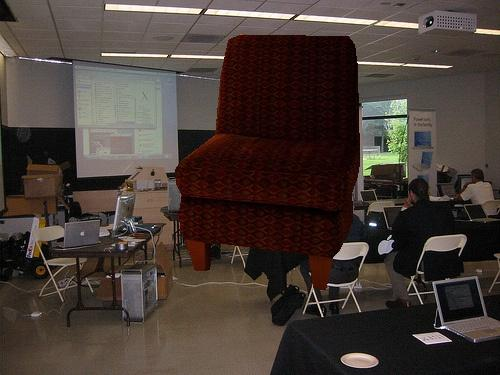tampered: (176, 35, 360, 290)
